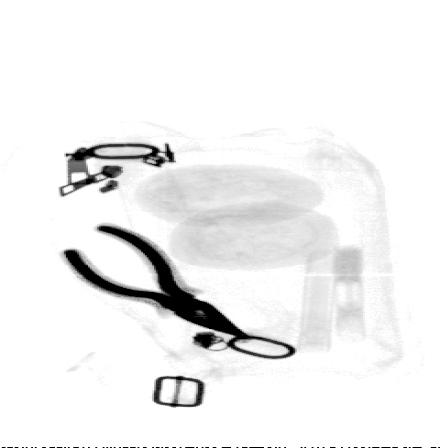Pliers: (60, 222, 251, 340)
